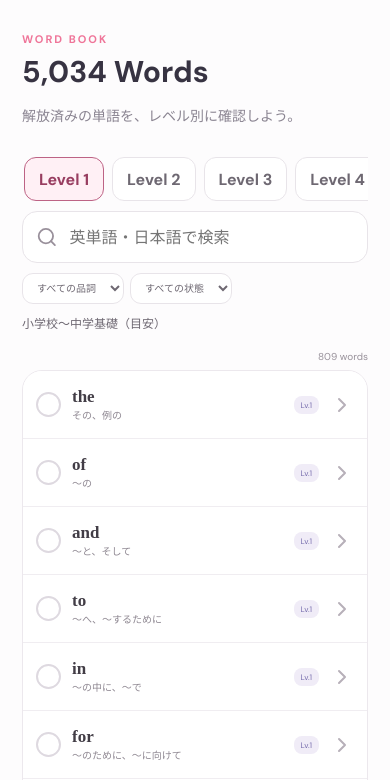
finds capitalized headwords and shows additional meanings
Type "i" into the field with placeholder "英単語・日本語で検索".
click(211, 237); type("i")  # box [68, 212, 354, 262]
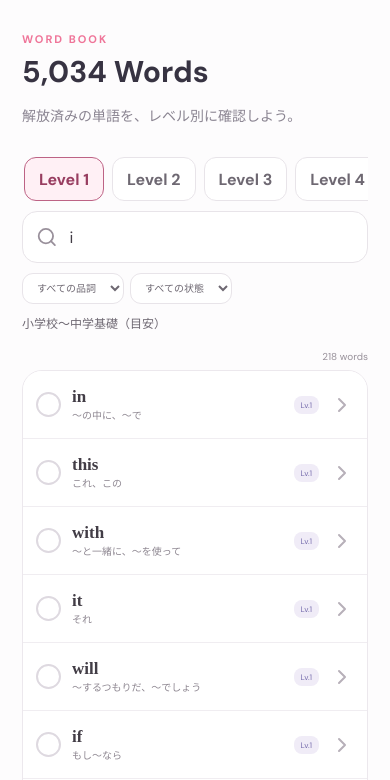
Click the tab with id "word-level-2".
click(154, 179)  # box [112, 157, 196, 201]
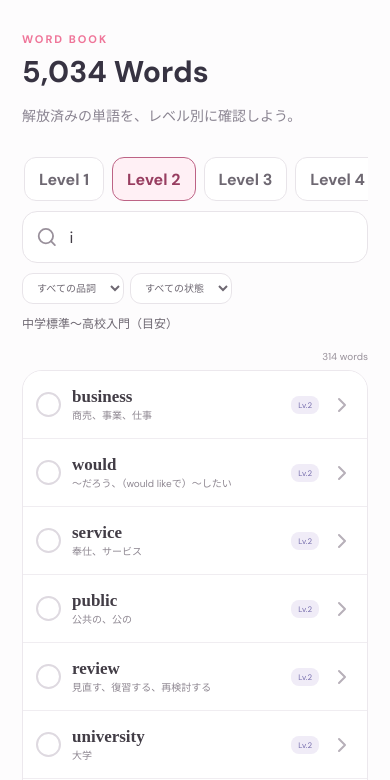
Replace the text in the field with "address" at (211, 237), box [68, 212, 354, 262]
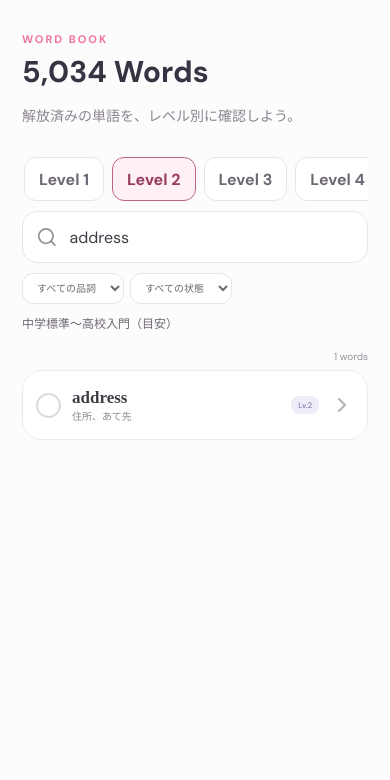
Click the button "address 住所、あて先 Lv.2".
click(100, 397)  # box [23, 371, 367, 439]
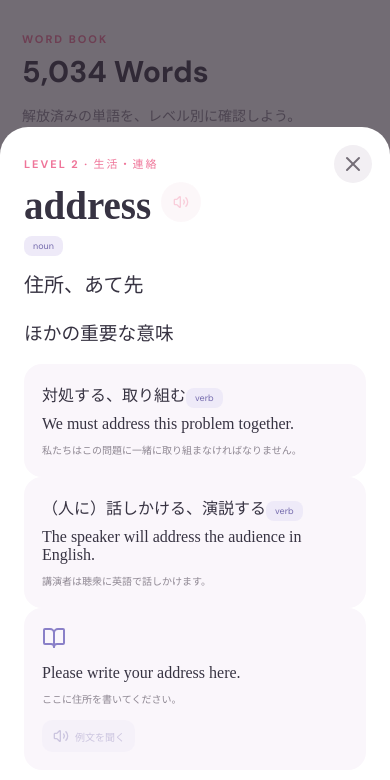
expect the element named "ほかの重要な意味" shows "対処する、取り組む": met, box [42, 385, 186, 406]
expect the element with class "word-modal" shows "We must address this problem together.": met, box [42, 415, 294, 432]
